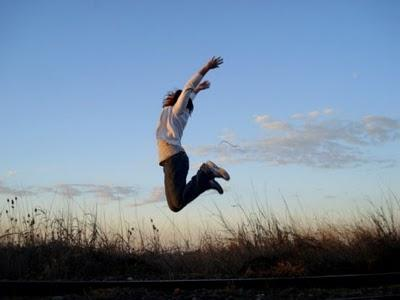person: (154, 56, 233, 211)
